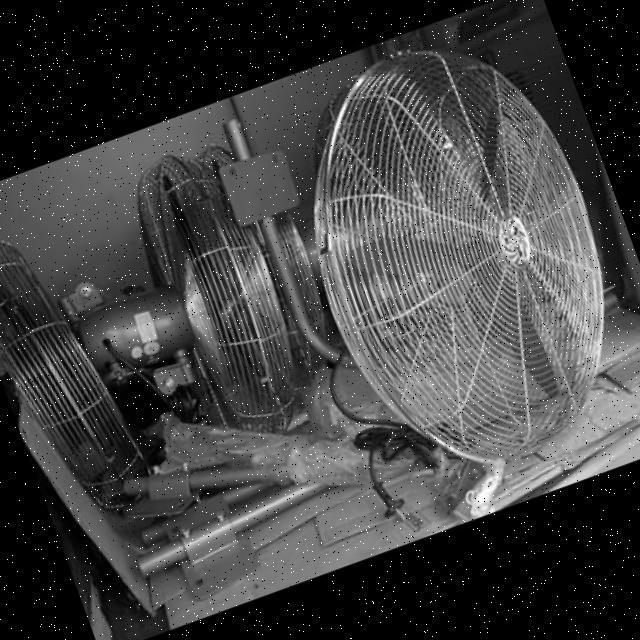fan: (243, 4, 640, 505)
